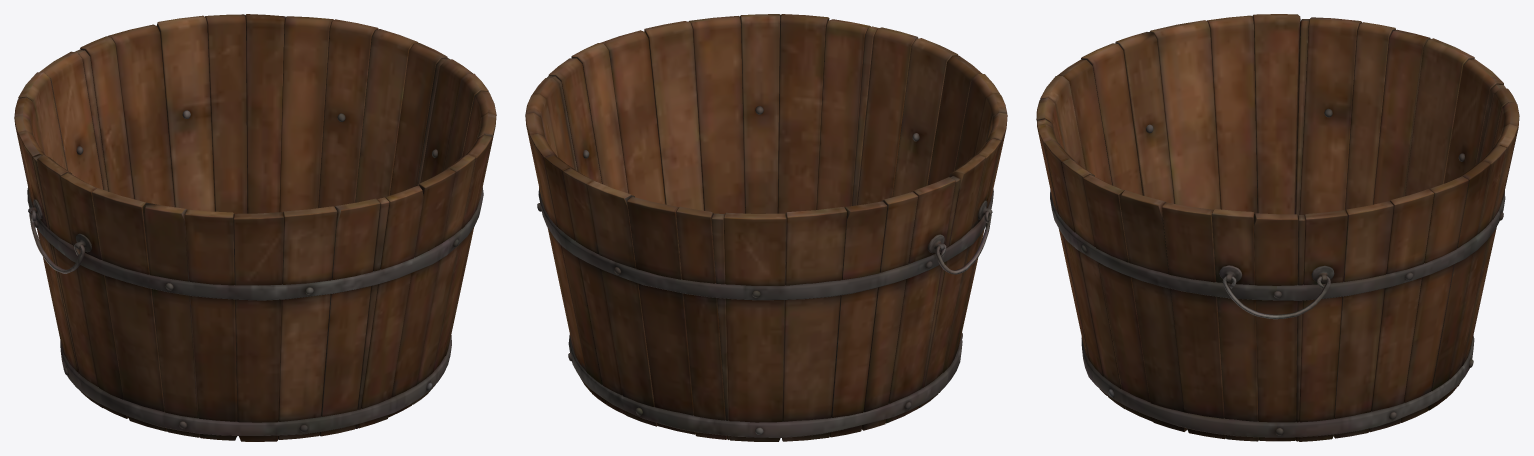
The model's file is wooden_bucket_02.glb.
The picture shows the model from 3 angles, left to right: view 1: azimuth 30°, elevation 25°; view 2: azimuth 150°, elevation 25°; view 3: azimuth 270°, elevation 25°; orthographic projection.
Visible parts, largest first — view 1: wooden_bucket_02; view 2: wooden_bucket_02; view 3: wooden_bucket_02.
Boxes of the visible parts, x1,y1,x2,y2 form: wooden_bucket_02: (14, 14, 496, 441); wooden_bucket_02: (525, 14, 1007, 441); wooden_bucket_02: (1036, 14, 1519, 441).
Size of the model in its own units: 0.6153 by 0.3504 by 0.6163.
1 material, 1 textured.
